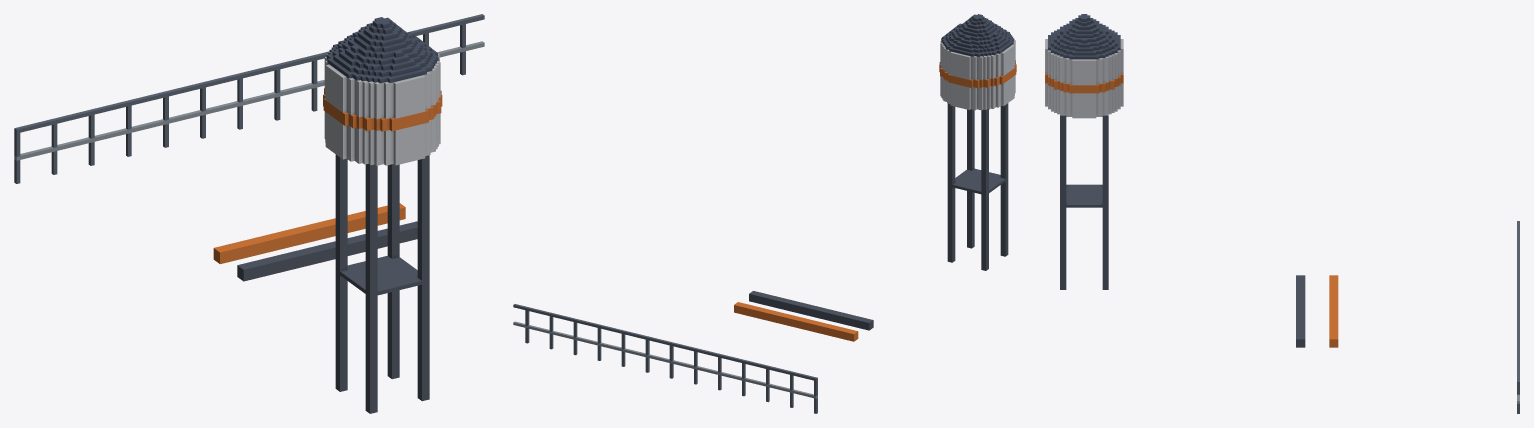
File: pad_e3_l2.glb
The picture shows the model from 3 angles, left to right: view 1: azimuth 30°, elevation 25°; view 2: azimuth 150°, elevation 25°; view 3: azimuth 270°, elevation 25°; orthographic projection. The views are drawn at different scales.
Parts seen in each view (by area): view 1: Base; view 2: Base; view 3: Base.
Part boxes in pixels (box(x1,y1,x2,y2)): Base: box(14, 14, 484, 413); Base: box(513, 14, 1016, 413); Base: box(1045, 14, 1519, 413).
Bounding box in the file's own units: 12.6 × 9.6 × 15.7.
